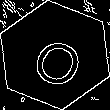O_NE: (23, 23, 87, 87)
